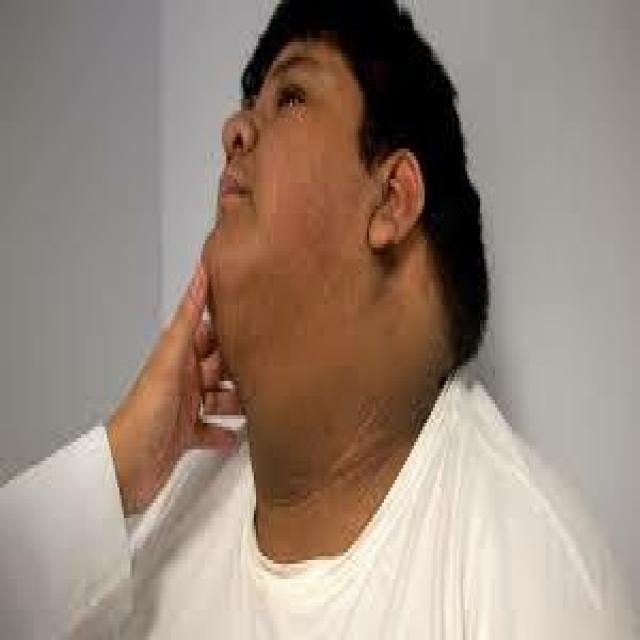Acanthosis Nigricans: (248, 363, 429, 545)
